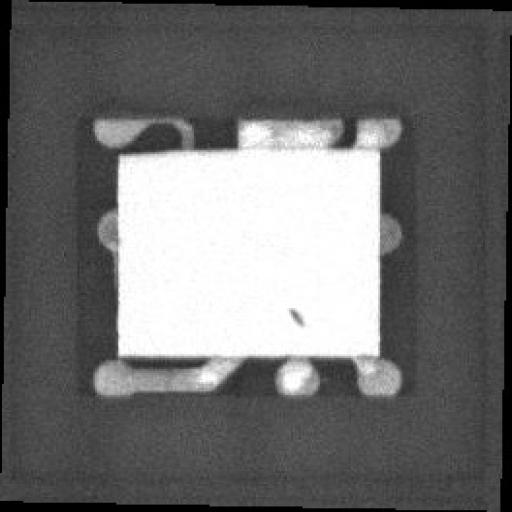DIE_INK: (273, 320, 289, 341)
